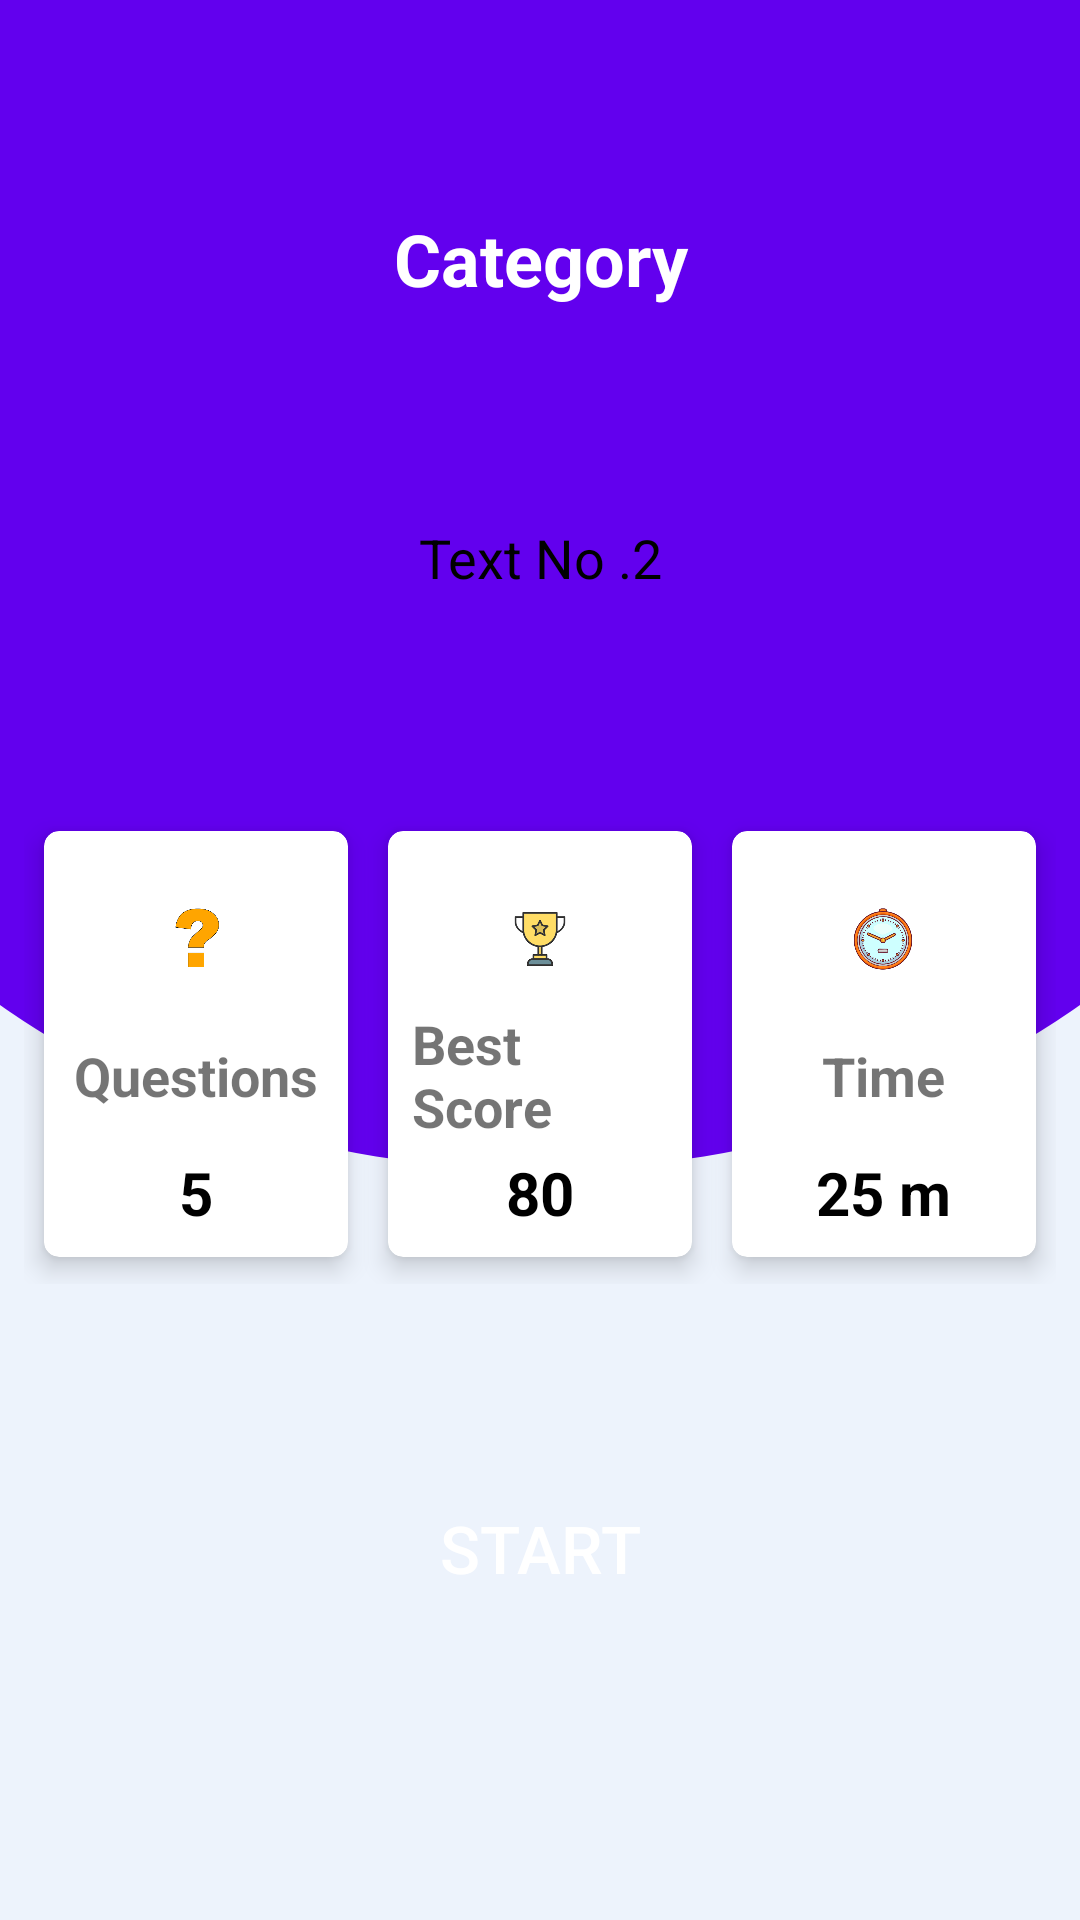

Screen size 1080×1920. Icon name, then its box in pixels as (x1, y1, x2, y2):
award: (514, 912, 566, 966)
clock: (854, 908, 912, 970)
